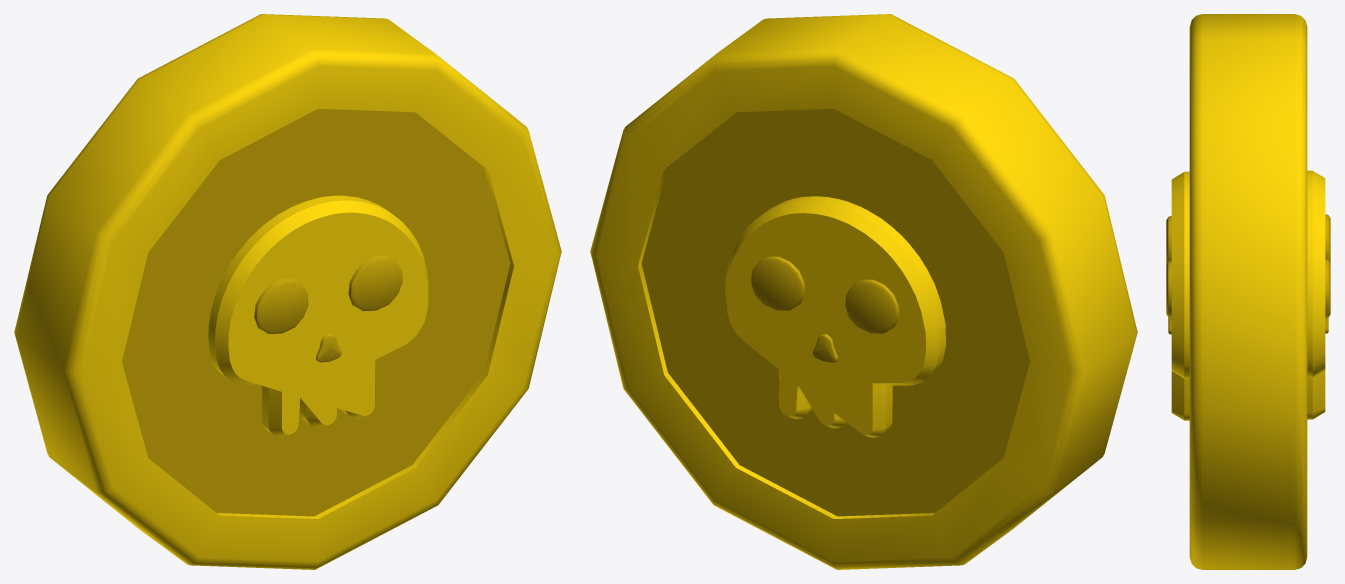
Rendered from Skull Coin.fbx.
3 views of the same model, side by side, from view 1: azimuth 30°, elevation 25°; view 2: azimuth 150°, elevation 25°; view 3: azimuth 270°, elevation 25° (orthographic). The views are drawn at different scales.
Visible parts, largest first — view 1: Skull Coin; view 2: Skull Coin; view 3: Skull Coin.
Boxes of the visible parts, x1,y1,x2,y2 form: Skull Coin: (14, 14, 561, 569); Skull Coin: (590, 14, 1137, 569); Skull Coin: (1166, 14, 1330, 569).
Bounding box in the file's own units: 0.2371 × 0.2371 × 0.0697.
